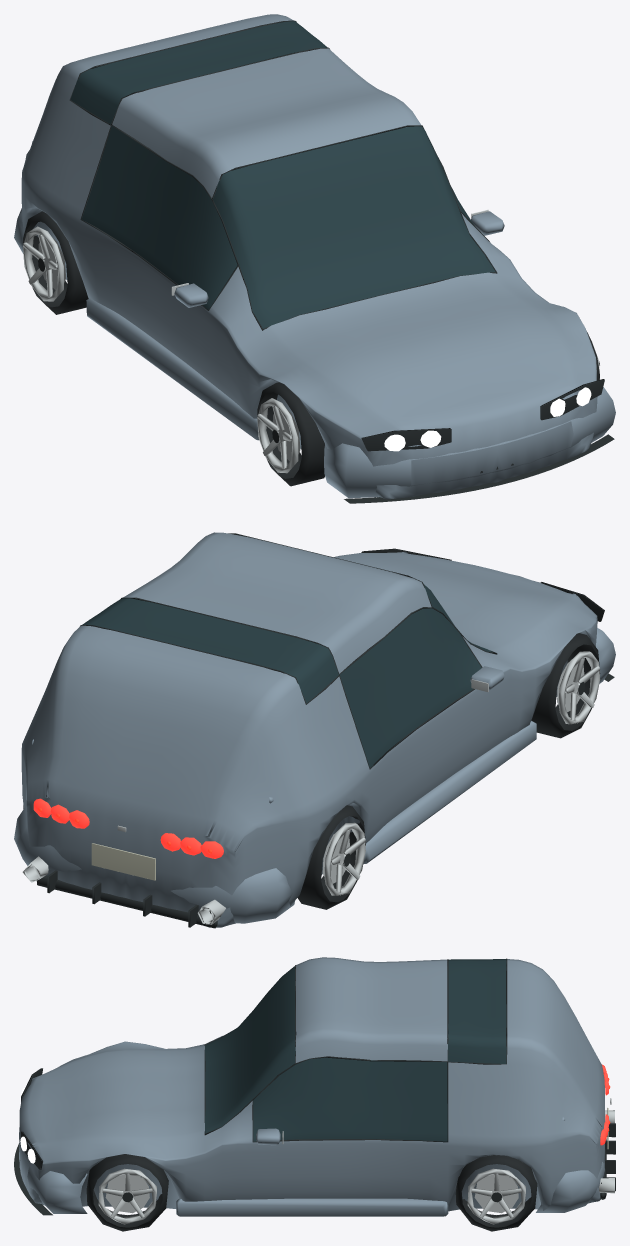
Rendered from caldorva-urvai.glb.
3 views of the same model, one above another, from view 1: azimuth 30°, elevation 25°; view 2: azimuth 150°, elevation 25°; view 3: azimuth 270°, elevation 25° (orthographic). The views are drawn at different scales.
Parts seen in each view (by area): view 1: scocca, cristallo_ant, cofano, tetto, cristallo_sx, porta_sx, cristallo_post, paraurti_ant, minigonna_sx, portellone, ruota_ant_sx_gomma, ruota_post_sx_gomma (+10 smaller); view 2: portellone, scocca, tetto, cristallo_sx, cofano, porta_sx, cristallo_post, paraurti_post, minigonna_sx, ruota_ant_sx_gomma, ruota_post_sx_gomma, targa (+8 smaller); view 3: scocca, tetto, cofano, cristallo_dx, porta_dx, portellone, cristallo_ant, cristallo_post, minigonna_dx, ruota_ant_dx_gomma, ruota_post_dx_gomma, paraurti_ant (+12 smaller).
Boxes of the visible parts, x1,y1,x2,y2 form: scocca: (21, 90, 597, 499); cristallo_ant: (213, 126, 495, 328); cofano: (262, 272, 577, 422); tetto: (112, 48, 421, 197); cristallo_sx: (81, 126, 237, 309); porta_sx: (80, 220, 223, 392); cristallo_post: (70, 21, 327, 124); paraurti_ant: (324, 387, 615, 498); minigonna_sx: (86, 298, 258, 440); portellone: (50, 14, 293, 99); ruota_ant_sx_gomma: (257, 382, 324, 486); ruota_post_sx_gomma: (23, 211, 88, 314); portellone: (42, 625, 305, 839); scocca: (21, 552, 597, 927); tetto: (123, 532, 431, 673); cristallo_sx: (340, 608, 481, 767); cofano: (334, 553, 577, 654); porta_sx: (365, 684, 500, 843); cristallo_post: (82, 598, 338, 703); paraurti_post: (14, 807, 294, 923); minigonna_sx: (363, 720, 536, 864); ruota_ant_sx_gomma: (531, 633, 600, 738); ruota_post_sx_gomma: (297, 805, 365, 909); targa: (91, 843, 155, 880); scocca: (19, 1035, 604, 1211); tetto: (295, 957, 447, 1062); cofano: (41, 1045, 204, 1147); cristallo_dx: (253, 1057, 447, 1141); porta_dx: (238, 1140, 447, 1204); portellone: (507, 959, 604, 1130); cristallo_ant: (205, 966, 295, 1133); cristallo_post: (448, 959, 506, 1063); minigonna_dx: (176, 1198, 448, 1216); ruota_ant_dx_gomma: (86, 1154, 168, 1231); ruota_post_dx_gomma: (455, 1155, 537, 1231); paraurti_ant: (19, 1127, 87, 1213).
Bounding box in the file's own units: 2.37 × 1.66 × 4.95.
